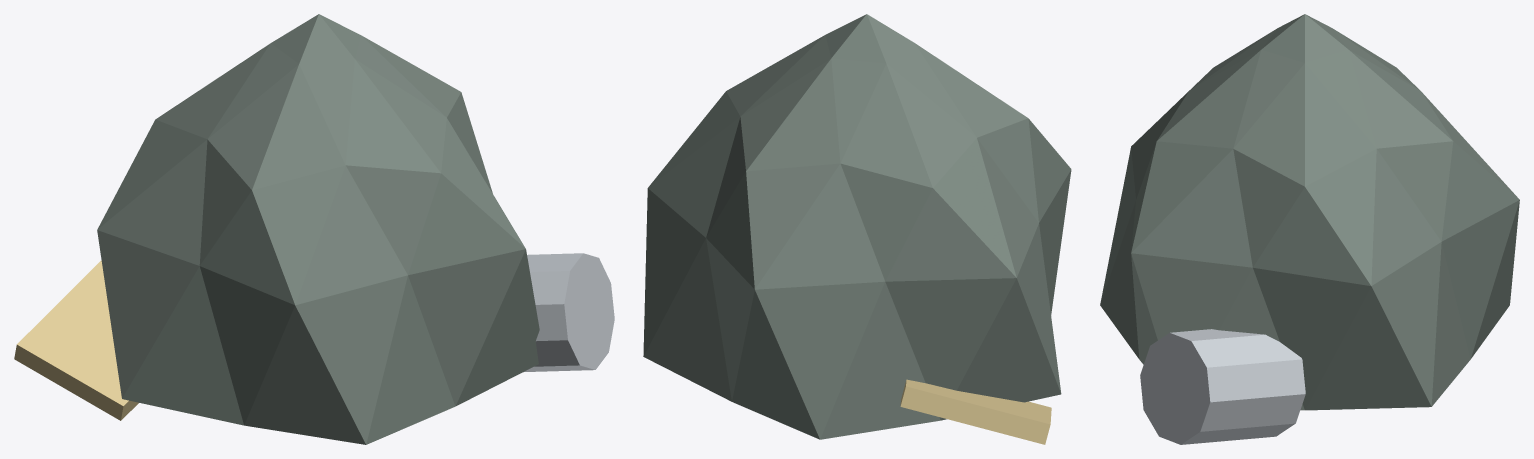
File: SM_Loot_WasteBag.fbx
The picture shows the model from 3 angles, left to right: view 1: azimuth 30°, elevation 25°; view 2: azimuth 150°, elevation 25°; view 3: azimuth 270°, elevation 25°; orthographic projection. The views are drawn at different scales.
Visible parts, largest first — view 1: WasteBagBody, ScrapCardboard, TinCanSide; view 2: WasteBagBody, ScrapCardboard; view 3: WasteBagBody, TinCanSide.
Boxes of the visible parts, x1,y1,x2,y2 form: WasteBagBody: [97, 14, 539, 444]; ScrapCardboard: [14, 260, 138, 420]; TinCanSide: [523, 253, 614, 372]; WasteBagBody: [643, 14, 1071, 439]; ScrapCardboard: [900, 379, 1051, 444]; WasteBagBody: [1100, 14, 1519, 410]; TinCanSide: [1140, 329, 1305, 444].
Bounding box in the file's own units: 1.04 × 0.7596 × 0.819.
